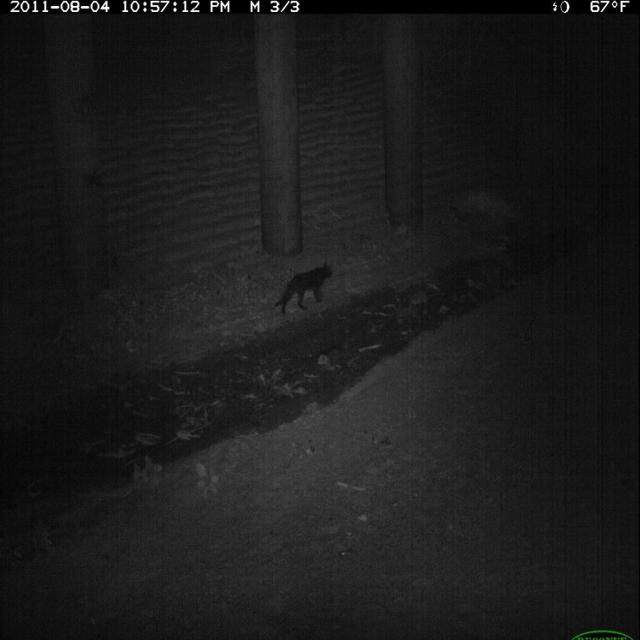cat: (272, 256, 338, 322)
